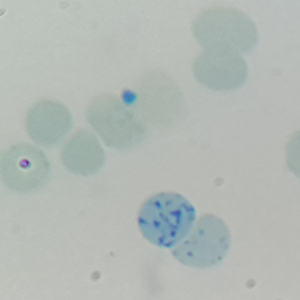aggregate reticulocyte: (136, 191, 197, 249)
erythrocyte: (118, 68, 191, 132), (83, 91, 149, 153), (189, 4, 260, 58), (190, 42, 251, 93), (23, 99, 73, 149), (1, 143, 49, 194), (58, 128, 107, 177)
punctate reticulocyte: (169, 210, 233, 270)
